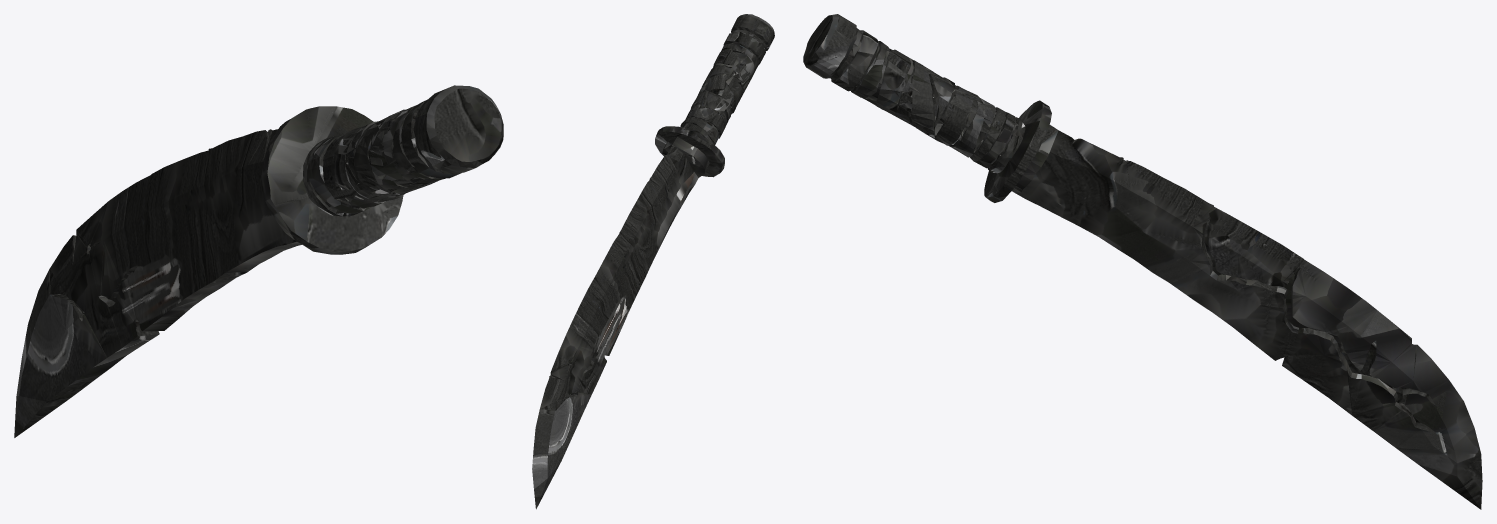
The model's file is bronze_saber.obj.
The picture shows the model from 3 angles, left to right: view 1: azimuth 30°, elevation 25°; view 2: azimuth 150°, elevation 25°; view 3: azimuth 270°, elevation 25°; orthographic projection. The views are drawn at different scales.
Bounding box in the file's own units: 1.66 × 8.04 × 10.
